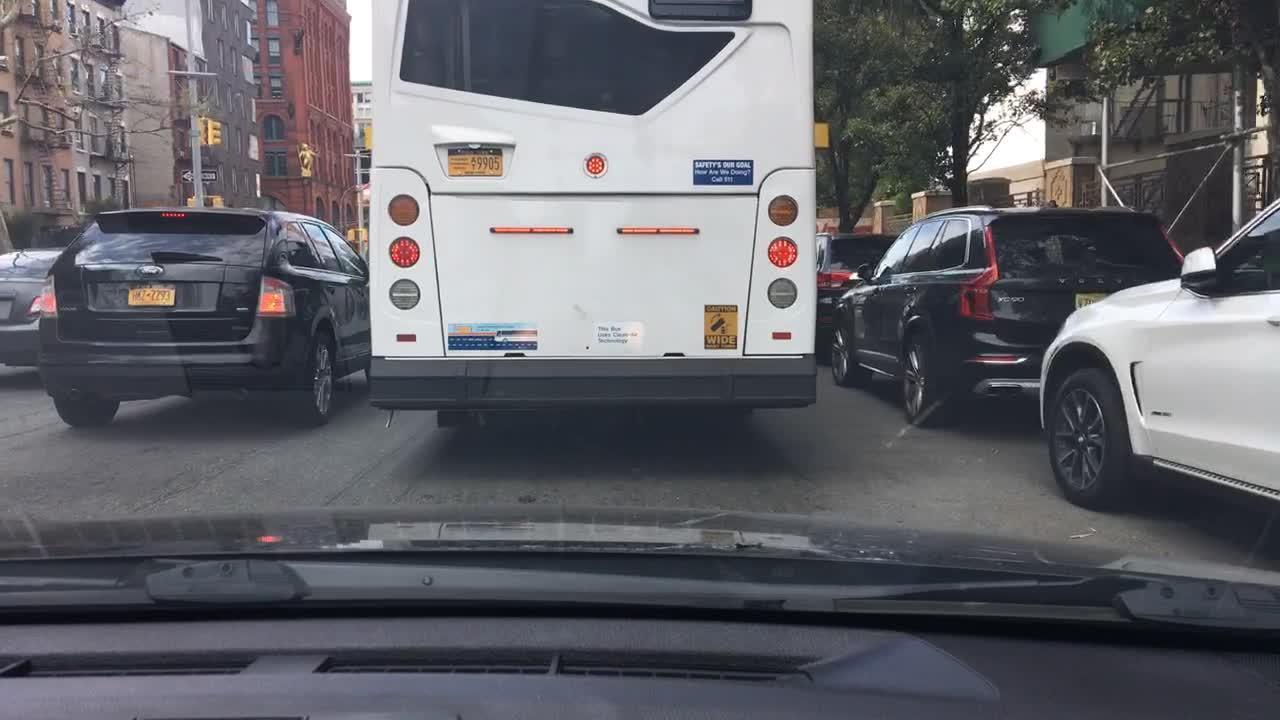ford: (132, 261, 166, 282)
